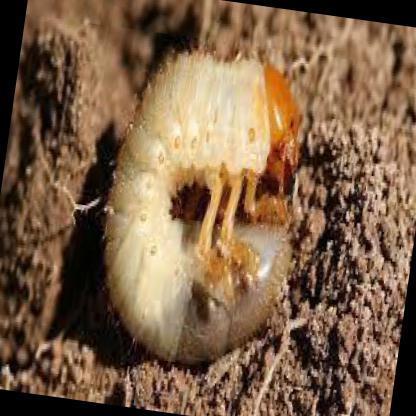root grubs: (106, 41, 300, 367)
